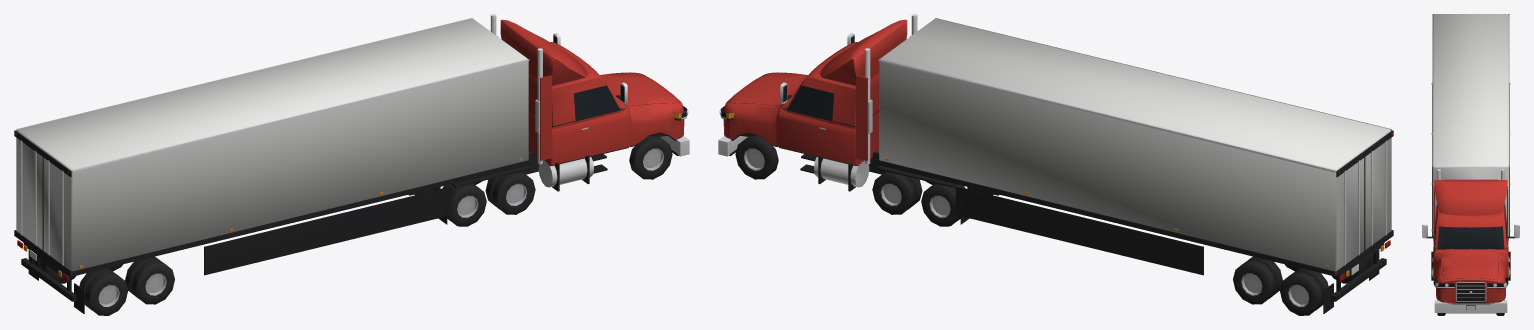
File: semi.glb
The picture shows the model from 3 angles, left to right: view 1: azimuth 30°, elevation 25°; view 2: azimuth 150°, elevation 25°; view 3: azimuth 270°, elevation 25°; orthographic projection. The views are drawn at different scales.
Parts seen in each view (by area): view 1: lod0; view 2: lod0; view 3: lod0.
Boxes of the visible parts, left/top/right/bottom form: lod0: left=14, top=14, right=689, bottom=315; lod0: left=718, top=14, right=1393, bottom=315; lod0: left=1422, top=14, right=1519, bottom=315.
Size of what is drawn, in the model's own units: 16.59 by 4 by 3.3.
